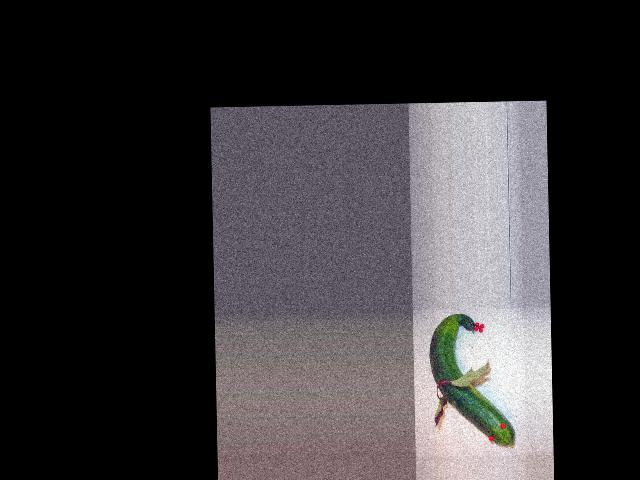cucumber: (428, 312, 515, 447)
